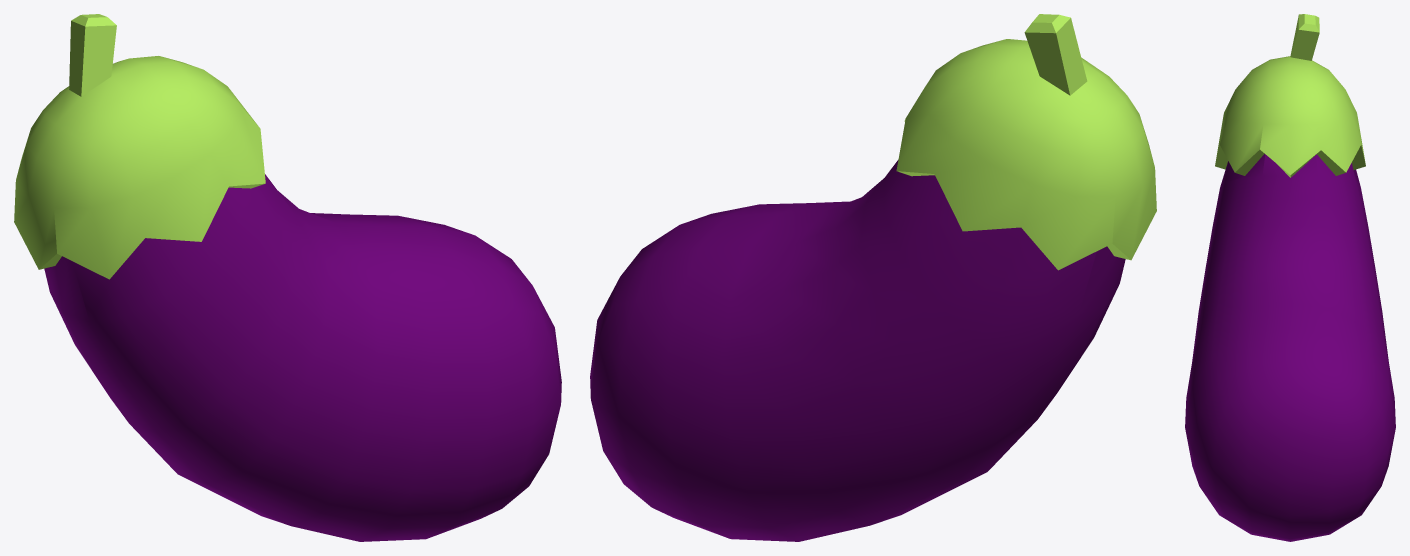
File: Verge.fbx
3 views of the same model, side by side, from view 1: azimuth 30°, elevation 25°; view 2: azimuth 150°, elevation 25°; view 3: azimuth 270°, elevation 25° (orthographic). The views are drawn at different scales.
Parts seen in each view (by area): view 1: Cube; view 2: Cube; view 3: Cube.
Boxes of the visible parts, bbox=[...] form: Cube: bbox=[14, 14, 561, 541]; Cube: bbox=[590, 14, 1156, 541]; Cube: bbox=[1185, 14, 1395, 541].
Size of the model in its own units: 147 by 158 by 73.79.
